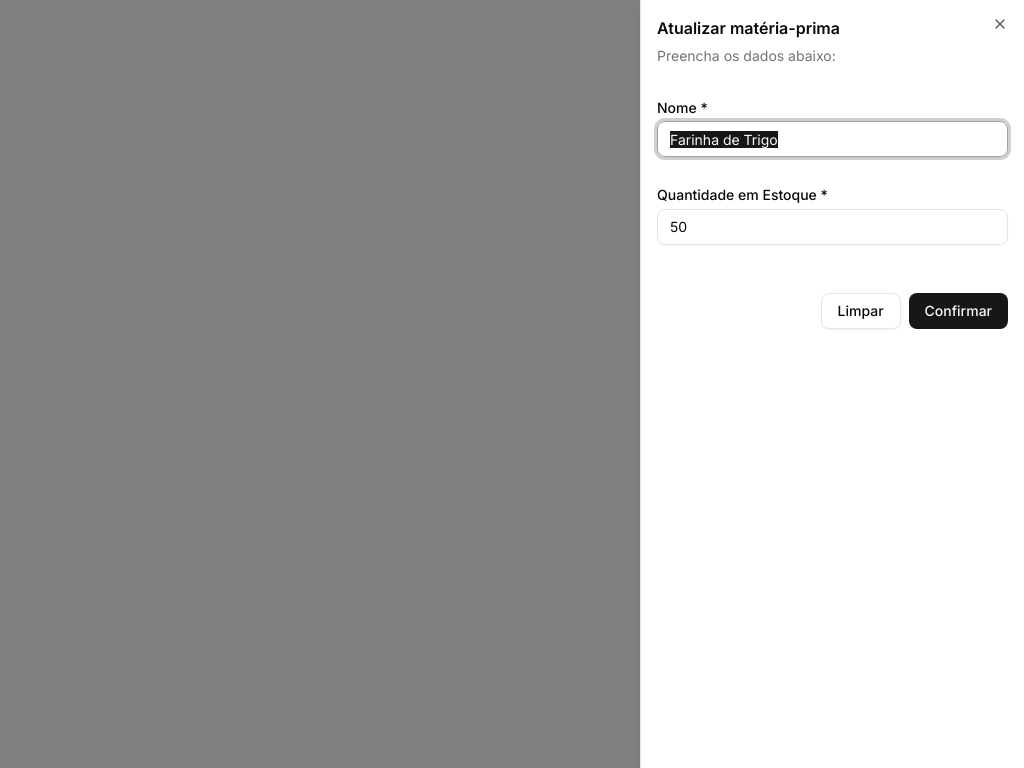
Test: RawMaterialUpdate › limpa os campos ao clicar em limpar
Click the button "Limpar" at coordinates (860, 310), box [820, 292, 900, 328]
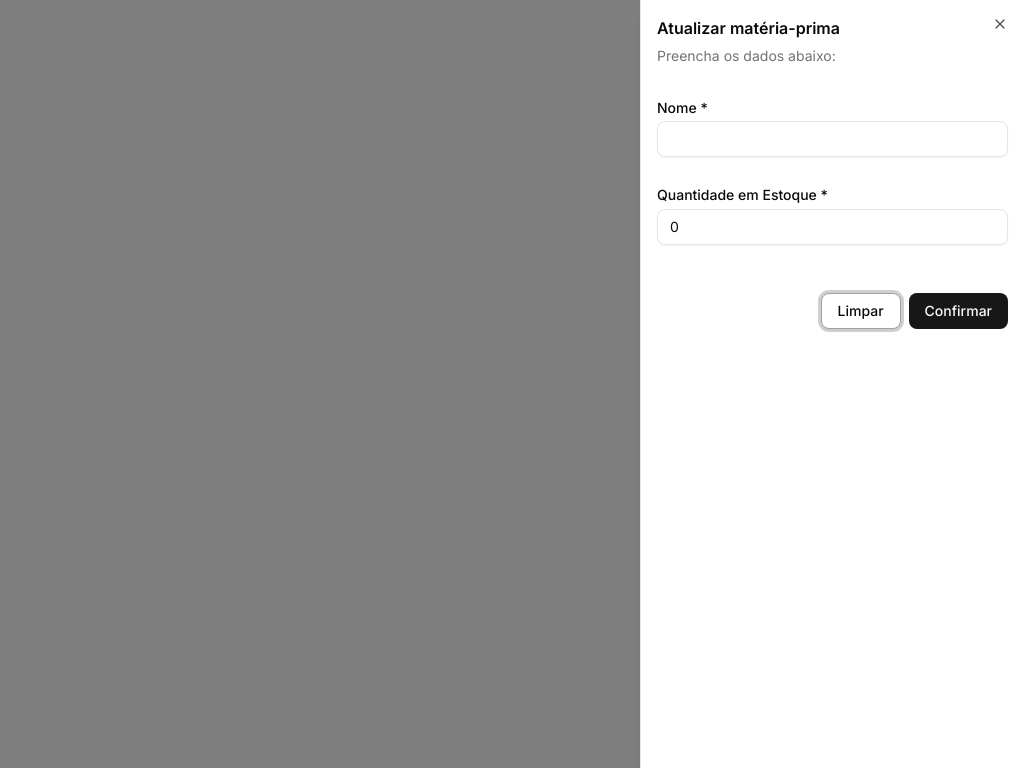
Check: the field labelled "Nome *" is empty, box [657, 121, 1008, 157]
Check: the number field labelled "Quantidade em Estoque *" holds "0", box [657, 208, 1008, 244]
